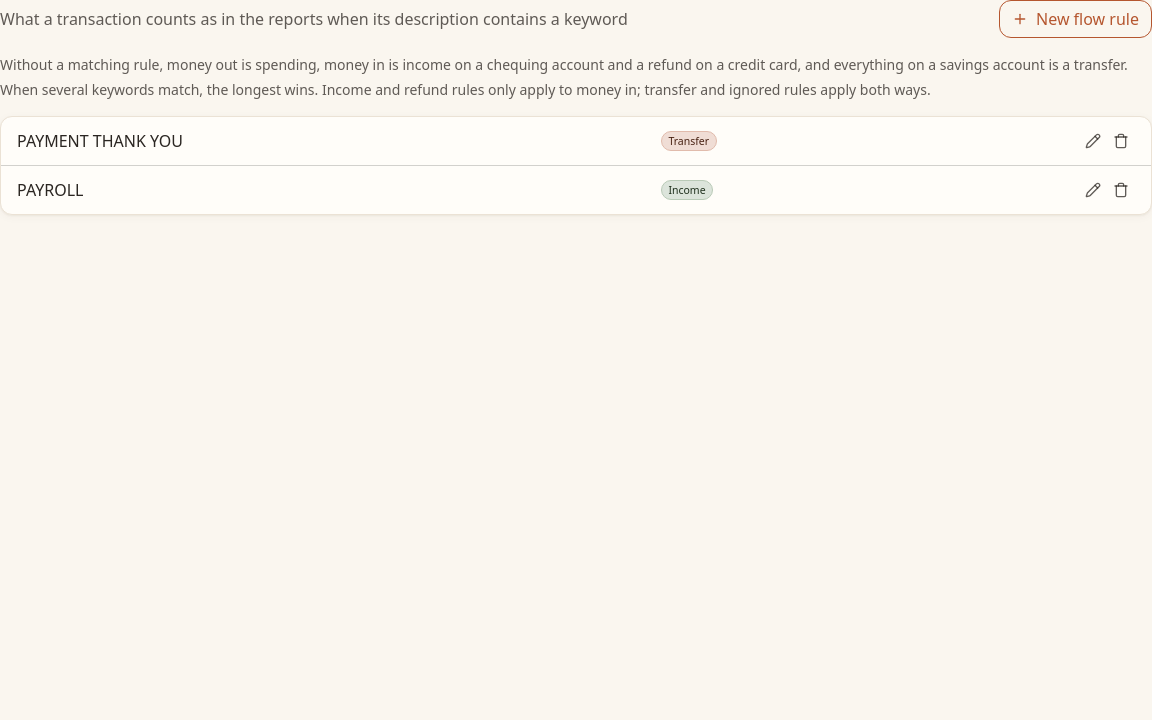
Test: FlowRuleListComponent › deletes only after confirmation
The width and height of the screenshot is (1152, 720).
Click the button named "Delete PAYROLL": (1121, 190) [1107,176,1135,204]
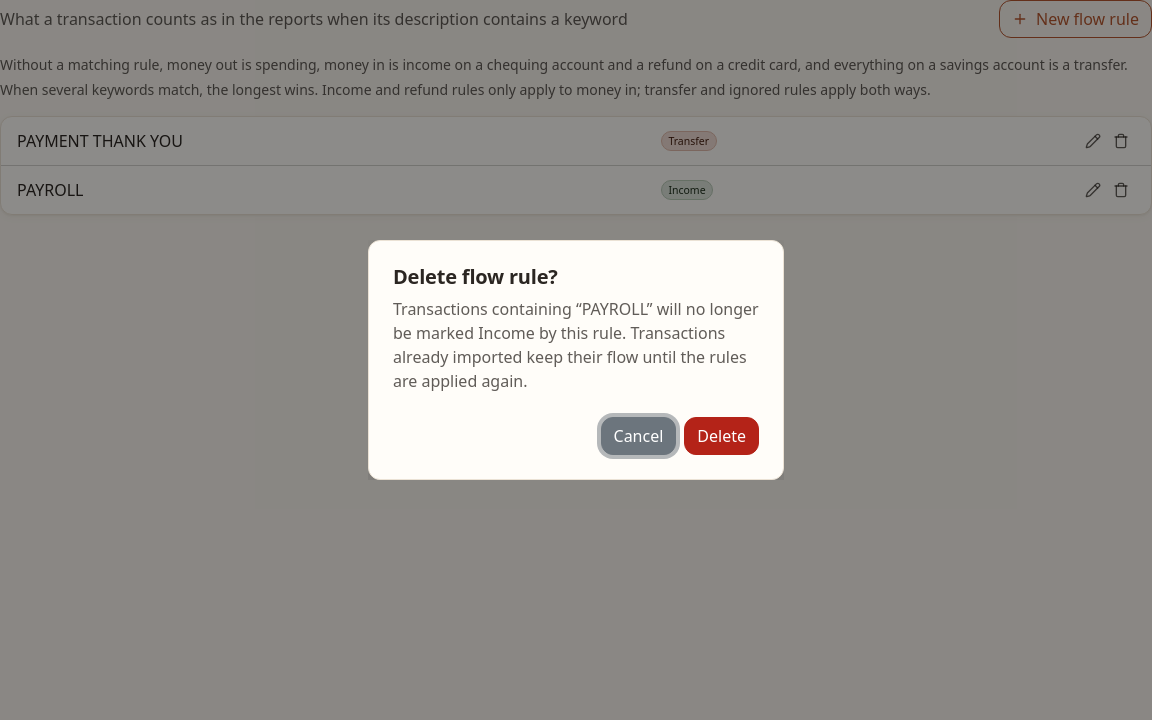
Check: the dialog shows "will no longer be marked Income", box [393,298,759,392]
